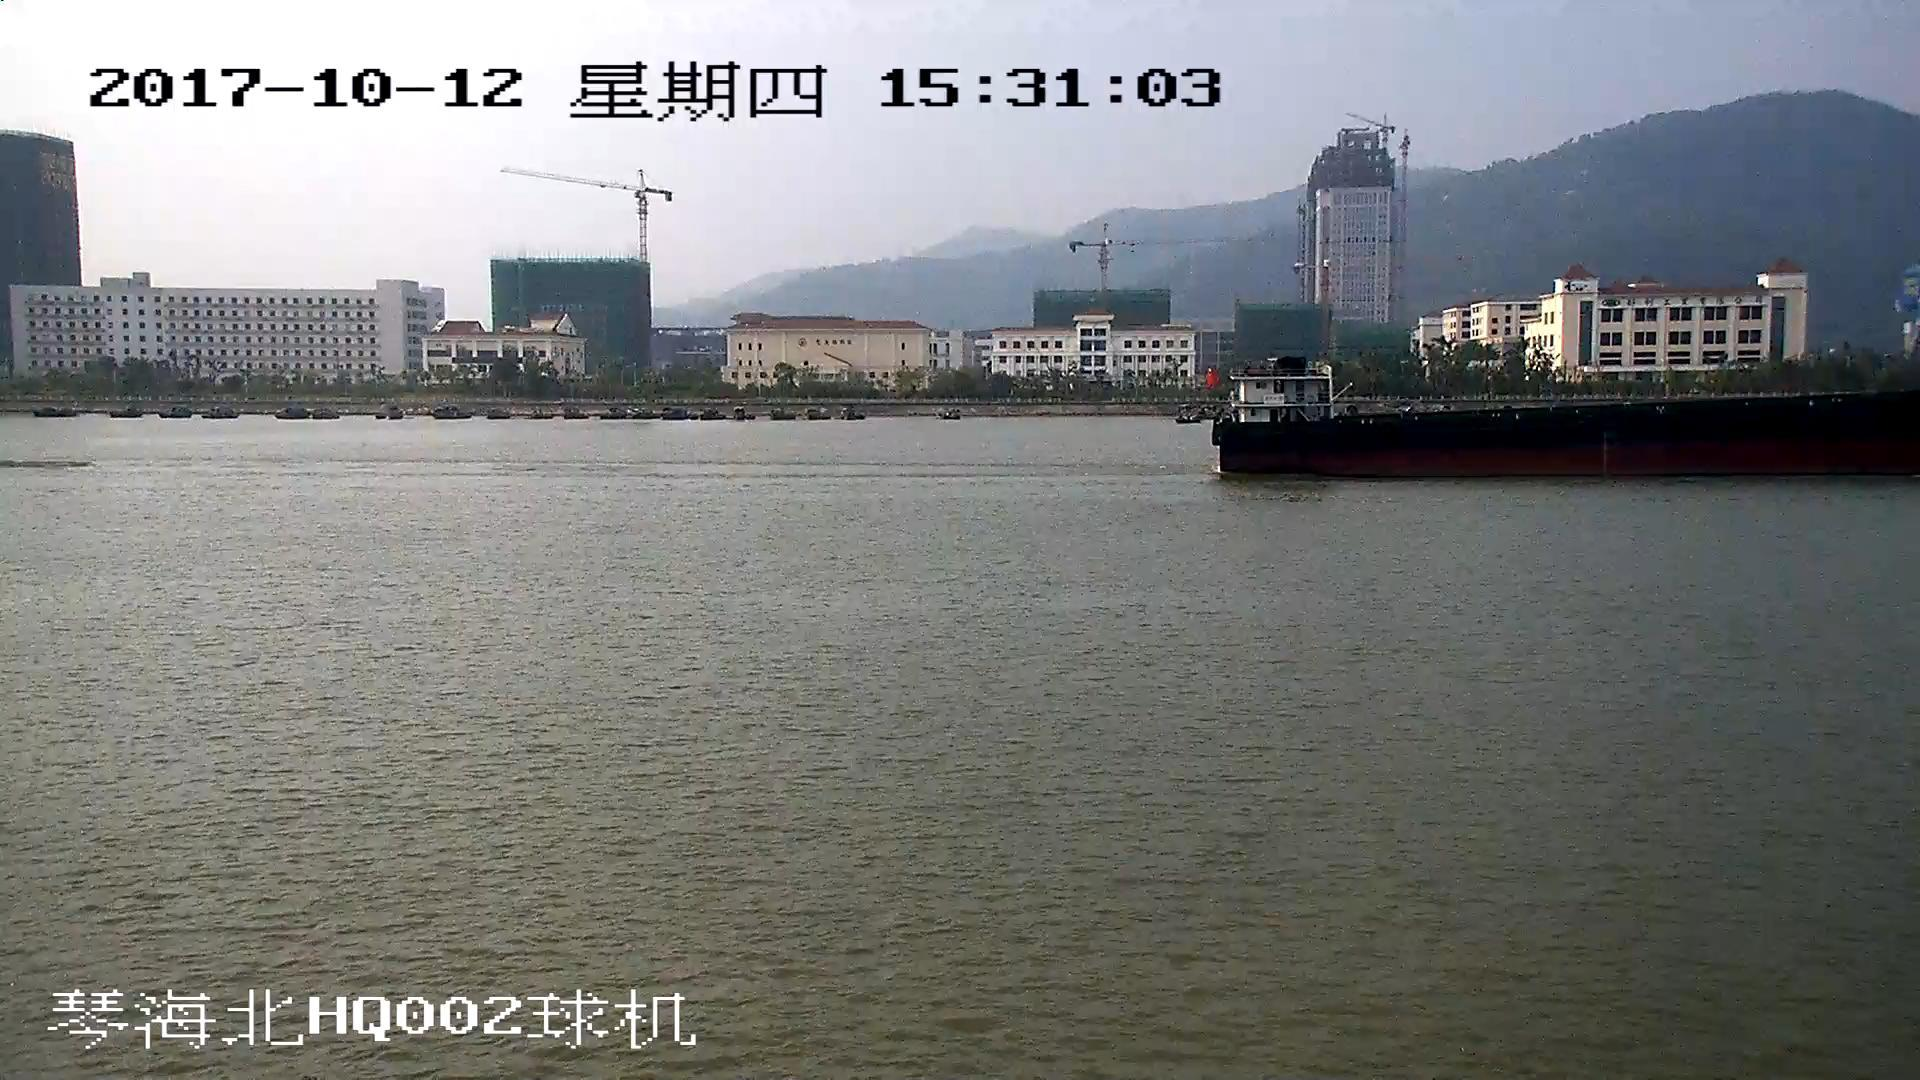Ship: (1199, 369, 1920, 479)
